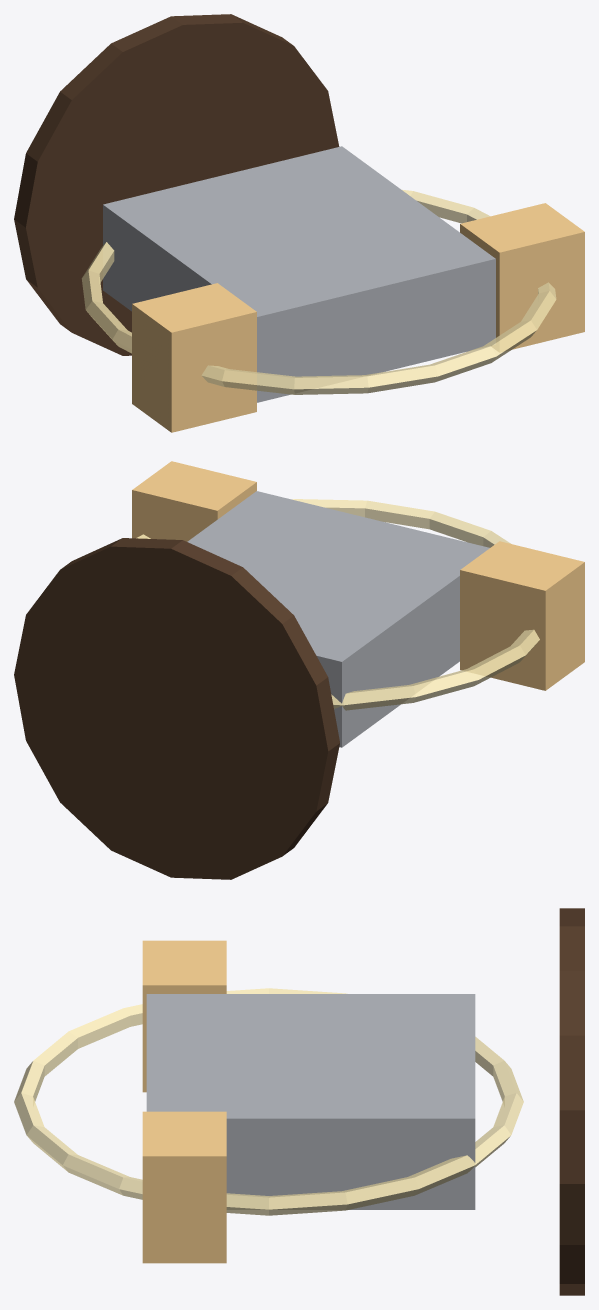
File: 05_high_tier_magic_armor_aura.glb
The picture shows the model from 3 angles, top to bottom: view 1: azimuth 30°, elevation 25°; view 2: azimuth 150°, elevation 25°; view 3: azimuth 270°, elevation 25°; orthographic projection. The views are drawn at different scales.
Parts seen in each view (by area): view 1: chest_plate_upgrade, armor_display_base, left_pauldron_upgrade, right_pauldron_upgrade, armor_barrier_ring; view 2: armor_display_base, chest_plate_upgrade, left_pauldron_upgrade, armor_barrier_ring, right_pauldron_upgrade; view 3: chest_plate_upgrade, armor_barrier_ring, right_pauldron_upgrade, armor_display_base, left_pauldron_upgrade.
Part boxes in pixels (bbox=[...]): chest_plate_upgrade: bbox=[103, 146, 495, 402]; armor_display_base: bbox=[14, 14, 339, 355]; left_pauldron_upgrade: bbox=[132, 283, 256, 432]; right_pauldron_upgrade: bbox=[460, 203, 584, 351]; armor_barrier_ring: bbox=[81, 189, 556, 394]; armor_display_base: bbox=[14, 538, 339, 879]; chest_plate_upgrade: bbox=[187, 491, 489, 747]; left_pauldron_upgrade: bbox=[460, 541, 584, 690]; armor_barrier_ring: bbox=[136, 499, 539, 710]; right_pauldron_upgrade: bbox=[132, 461, 256, 541]; chest_plate_upgrade: bbox=[146, 994, 475, 1209]; armor_barrier_ring: bbox=[14, 988, 523, 1215]; right_pauldron_upgrade: bbox=[142, 1111, 226, 1263]; armor_display_base: bbox=[559, 908, 584, 1295]; left_pauldron_upgrade: bbox=[142, 940, 226, 1092].
Bounding box in the file's own units: 1.21 × 0.92 × 1.36.
